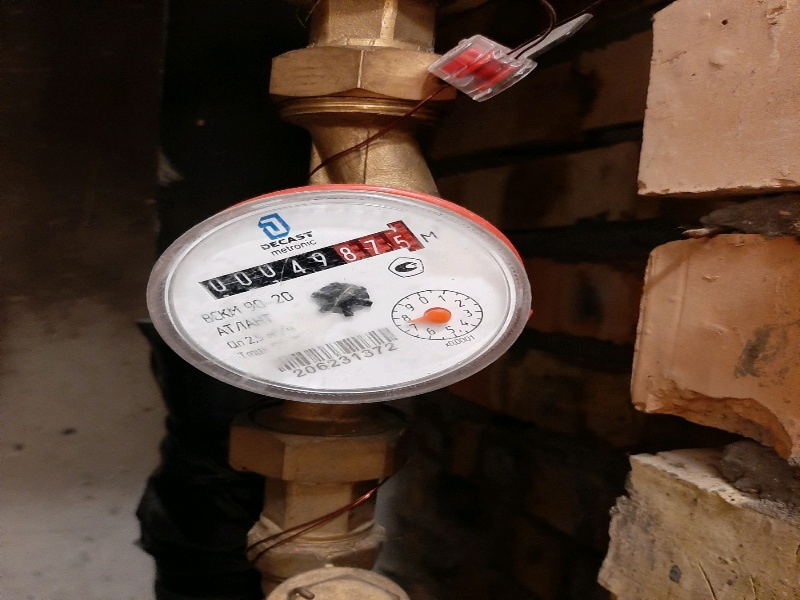meter: (201, 249, 430, 292)
